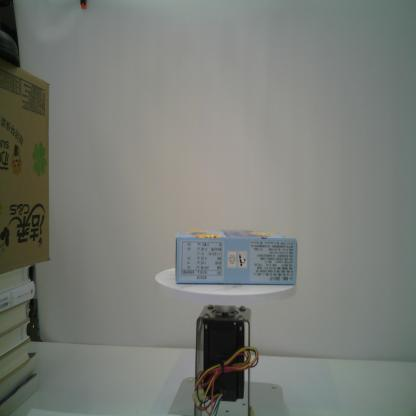Dessert: (174, 226, 298, 286)
